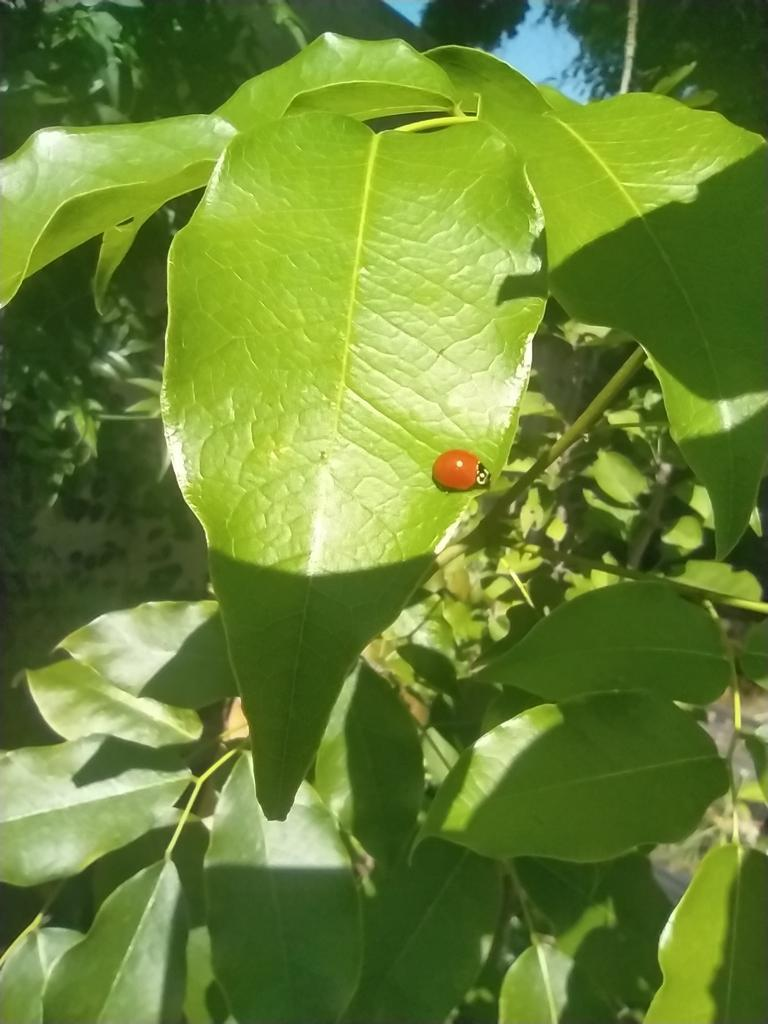ladybug: (431, 448, 495, 495)
